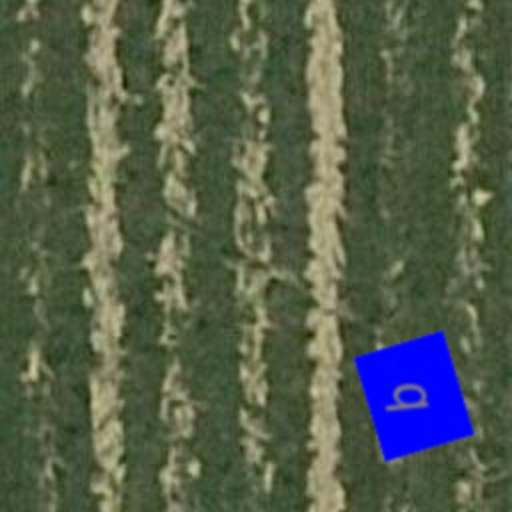rectangle: (344, 326, 484, 466)
